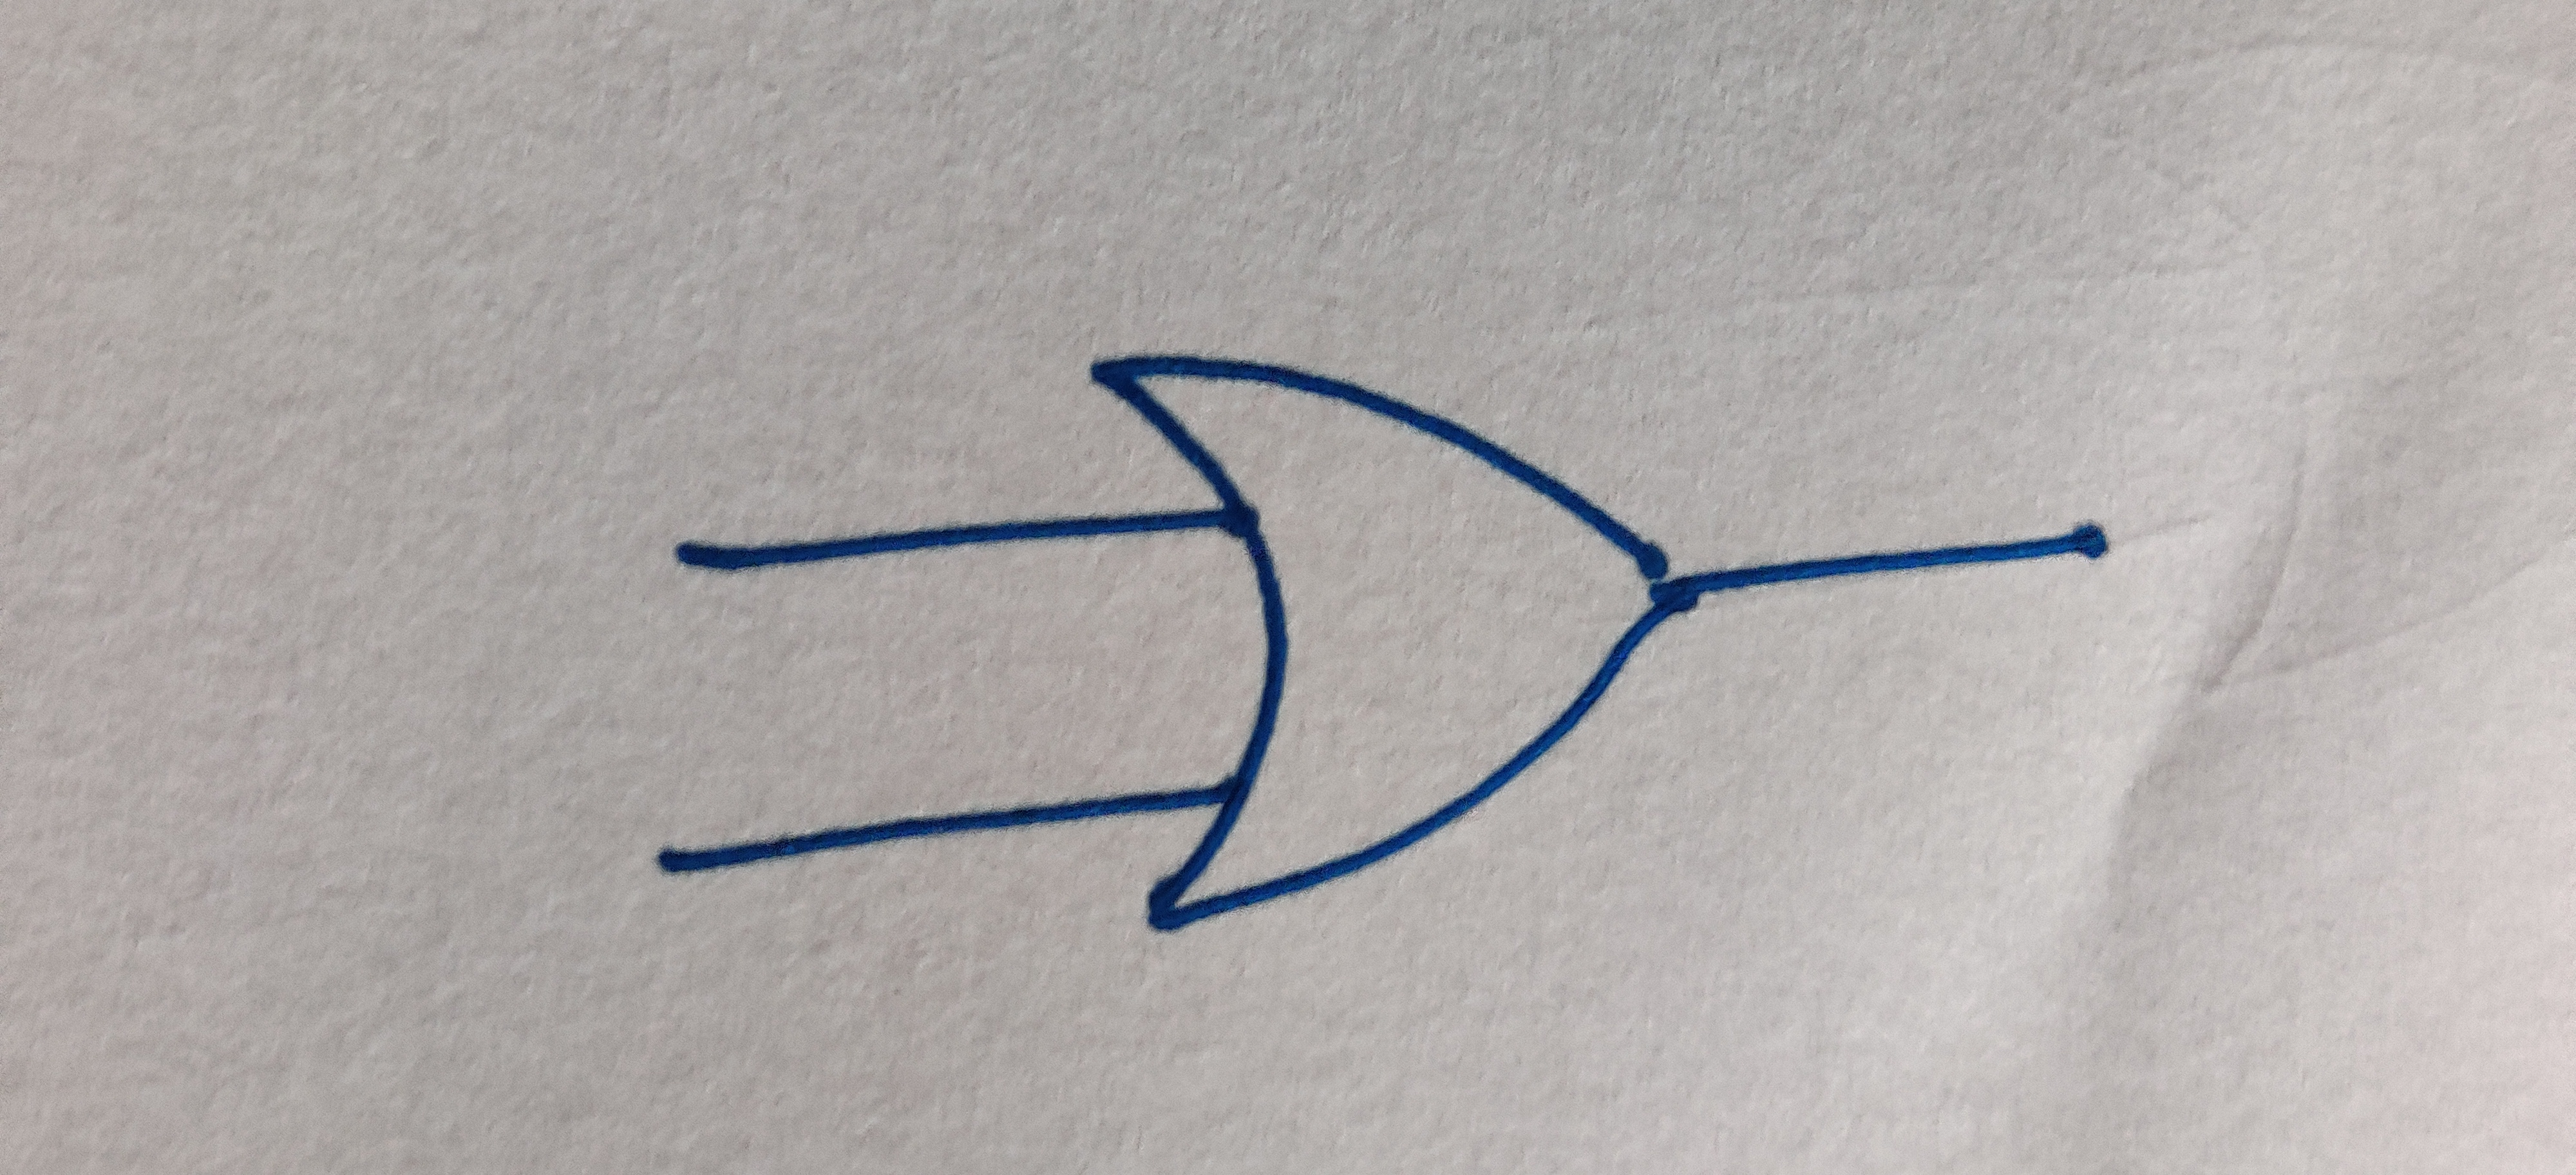or: (1086, 353, 1676, 924)
